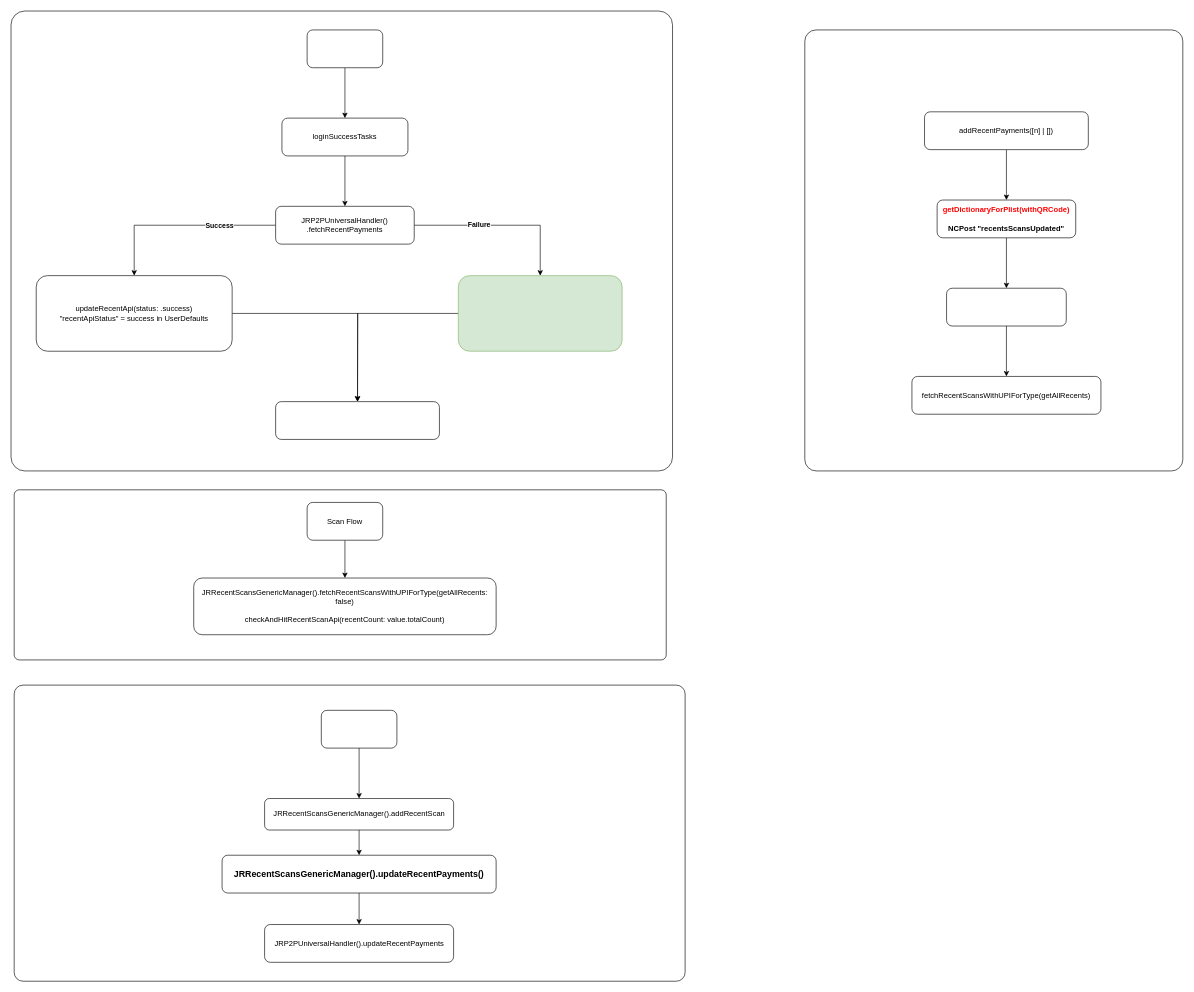
The diagram is 1194 pixels wide and 992 high, and some of its shapes have lost their labels. Here are the shapes that lost their labels. From the top down, the centre of each, then its label:
At (344,48): "After Successful Login".
At (540,313): "updateFailureData updateRecentApi(status: .failure)".
At (1006,307): "JRCameraScanViewControllerV2 .refreshCollection() ()".
At (357,420): "JRRecentScansGenericManager .addRecentPayments([n] | [])".
At (359,729): "Successful Payment Merchant".
